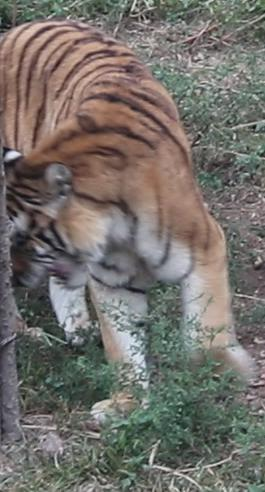tiger: (2, 21, 252, 387)
